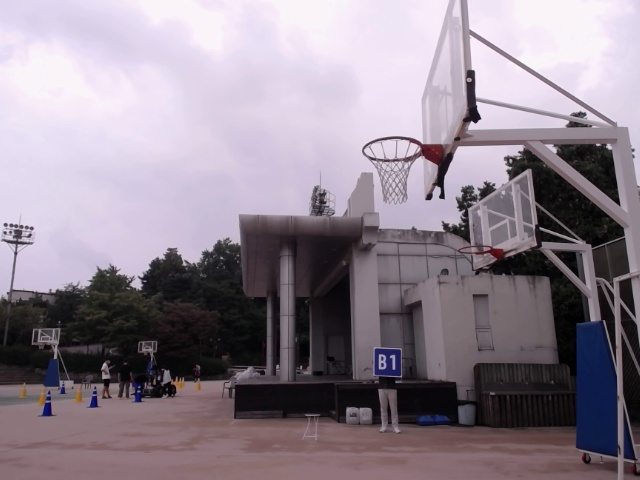delivery_b1: (373, 347, 403, 377)
